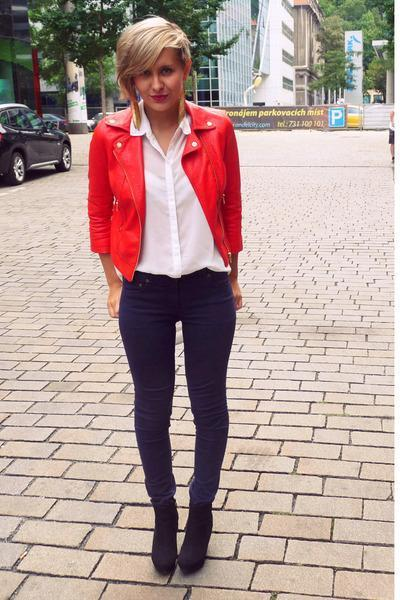jacket: (88, 90, 264, 280)
pants: (114, 267, 244, 507)
shirt: (130, 115, 230, 277)
shoe: (132, 497, 221, 585)
